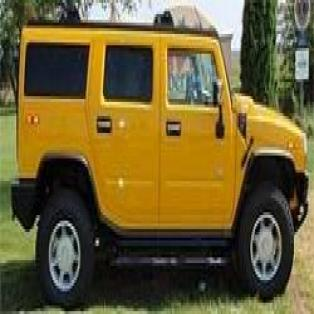Auto: (11, 14, 313, 308)
